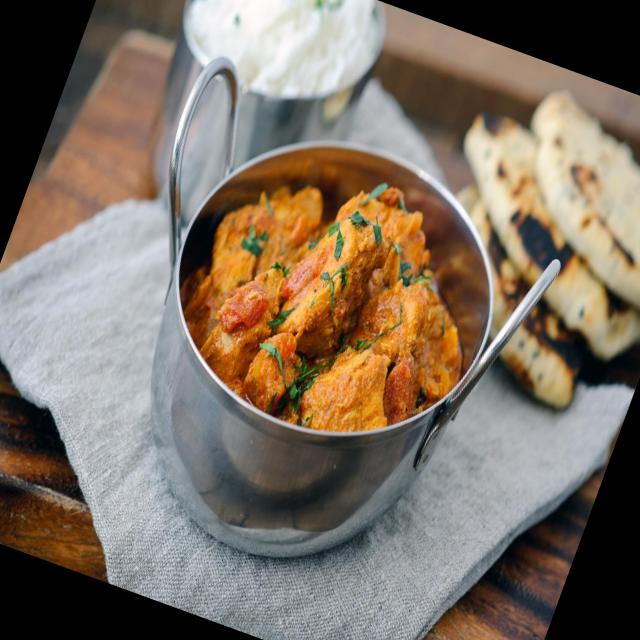chicken: (130, 122, 509, 468)
rice: (170, 0, 379, 107)
roti: (420, 100, 640, 421)
